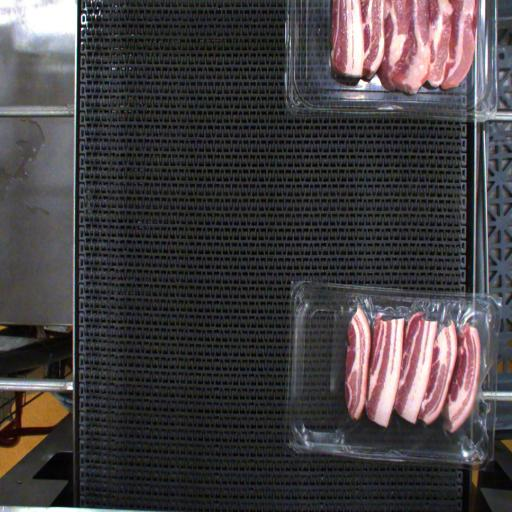unsealed: (329, 290, 494, 390)
